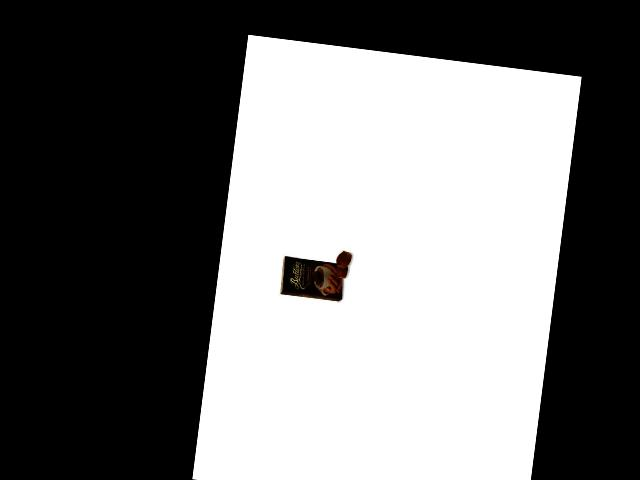chocolate: (276, 250, 348, 304)
